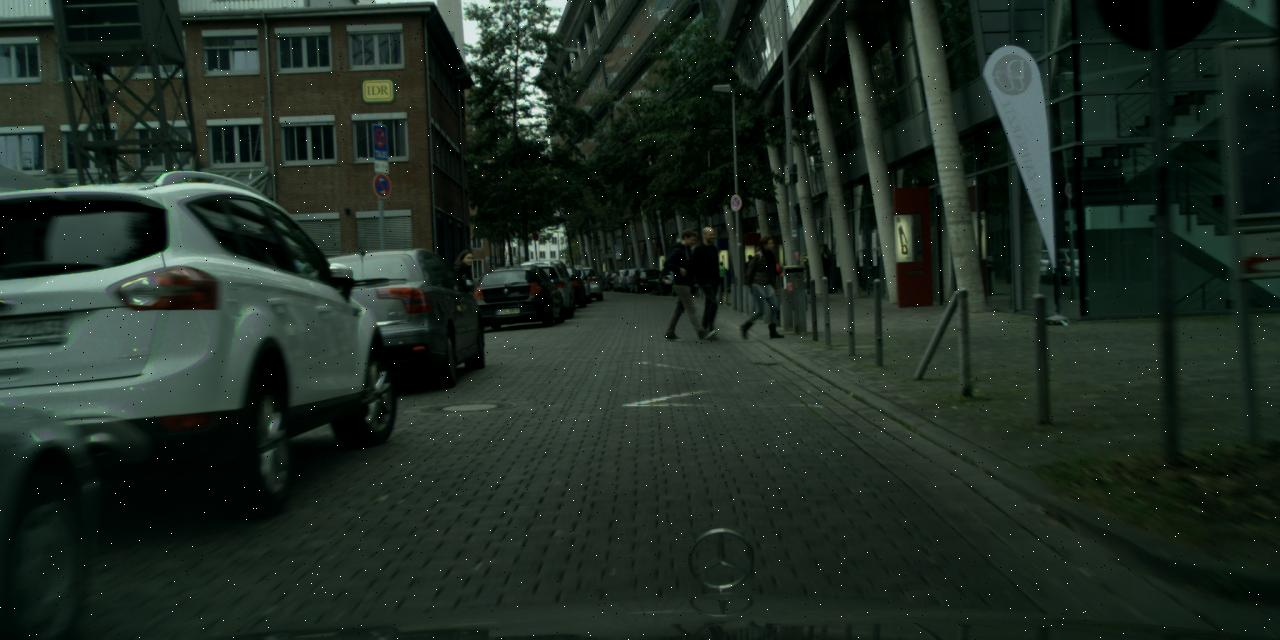ped: (668, 228, 713, 341), (685, 227, 730, 336), (741, 236, 782, 340), (447, 250, 483, 338), (715, 261, 727, 293)
